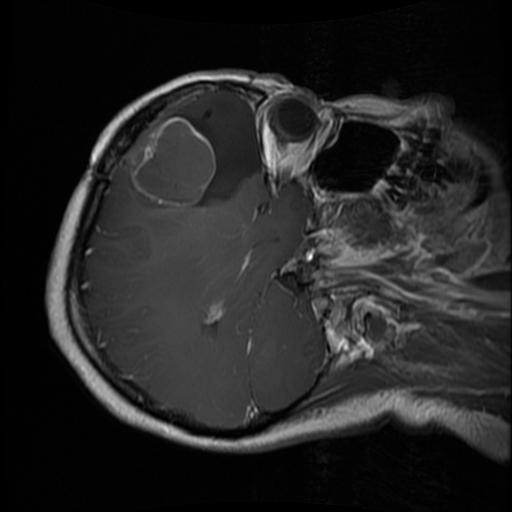glioma: (131, 87, 262, 209)
